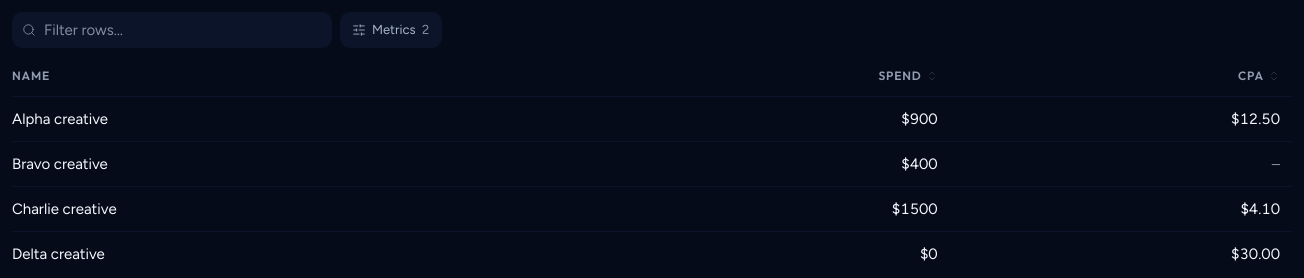
Test: MetricTable · the reader picks the metrics › cannot remove a locked column
This screenshot has width=1304, height=278.
Click the button "Metrics 2" at (391, 30), box [340,12,442,48]
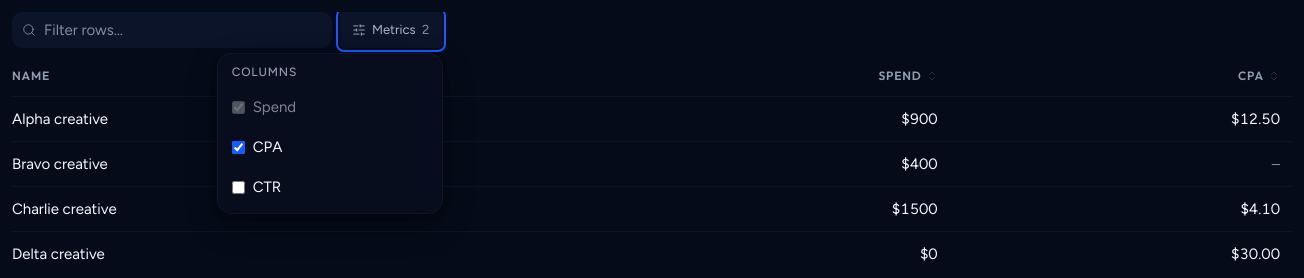
Now the checkbox labelled "Spend" is disabled, box [232,101,245,114]
